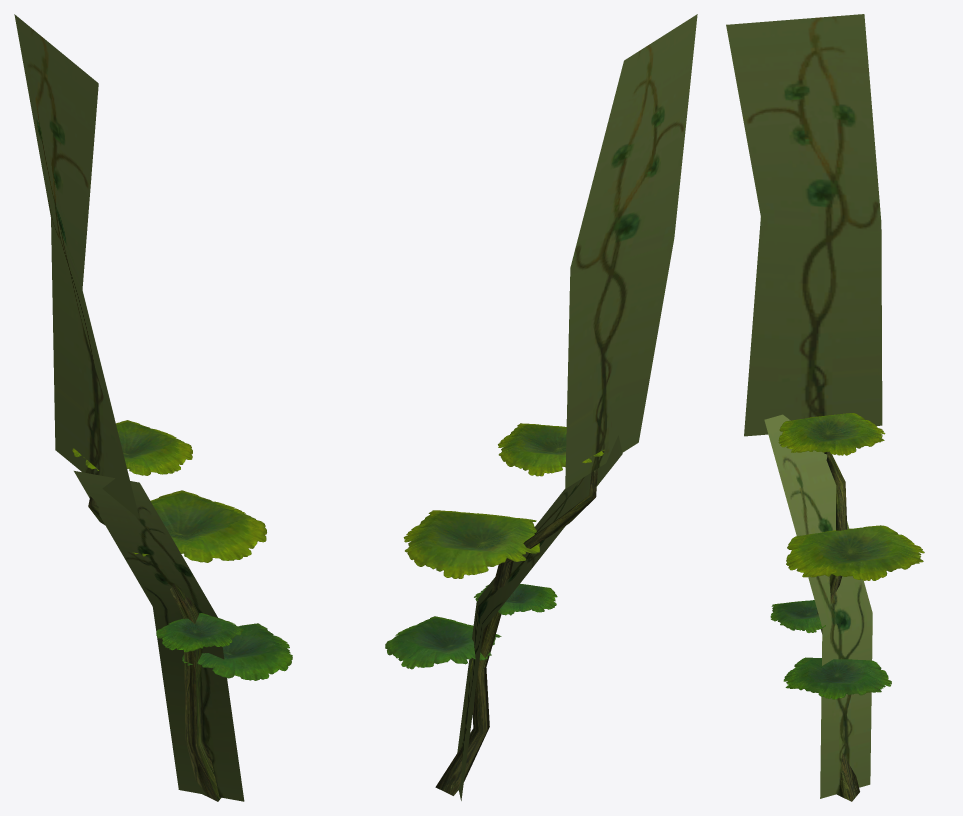
Rendered from environment_Tree_heye_003_b.FBX.
3 renders of one model, left to right at view 1: azimuth 30°, elevation 25°; view 2: azimuth 150°, elevation 25°; view 3: azimuth 270°, elevation 25°, orthographic. The views are drawn at different scales.
Parts seen in each view (by area): view 1: environment_Tree_heye_003_b, environment_Tree_heye_003_c, environment_Tree_heye_003_d, environment_Tree_heye_003_a; view 2: environment_Tree_heye_003_b, environment_Tree_heye_003_c, environment_Tree_heye_003_d, environment_Tree_heye_003_a; view 3: environment_Tree_heye_003_b, environment_Tree_heye_003_c, environment_Tree_heye_003_d, environment_Tree_heye_003_a.
Part boxes in pixels (x1,y1,x2,y2): environment_Tree_heye_003_b: (14,14,244,801); environment_Tree_heye_003_c: (72,420,266,562); environment_Tree_heye_003_d: (156,613,292,680); environment_Tree_heye_003_a: (88,496,221,801); environment_Tree_heye_003_b: (457,14,697,800); environment_Tree_heye_003_c: (403,423,604,578); environment_Tree_heye_003_d: (385,584,557,669); environment_Tree_heye_003_a: (435,468,597,795); environment_Tree_heye_003_b: (726,14,882,798); environment_Tree_heye_003_c: (778,413,924,580); environment_Tree_heye_003_d: (770,600,891,699); environment_Tree_heye_003_a: (817,452,859,801).
Size of the model in its own units: 231 by 670 by 193.
